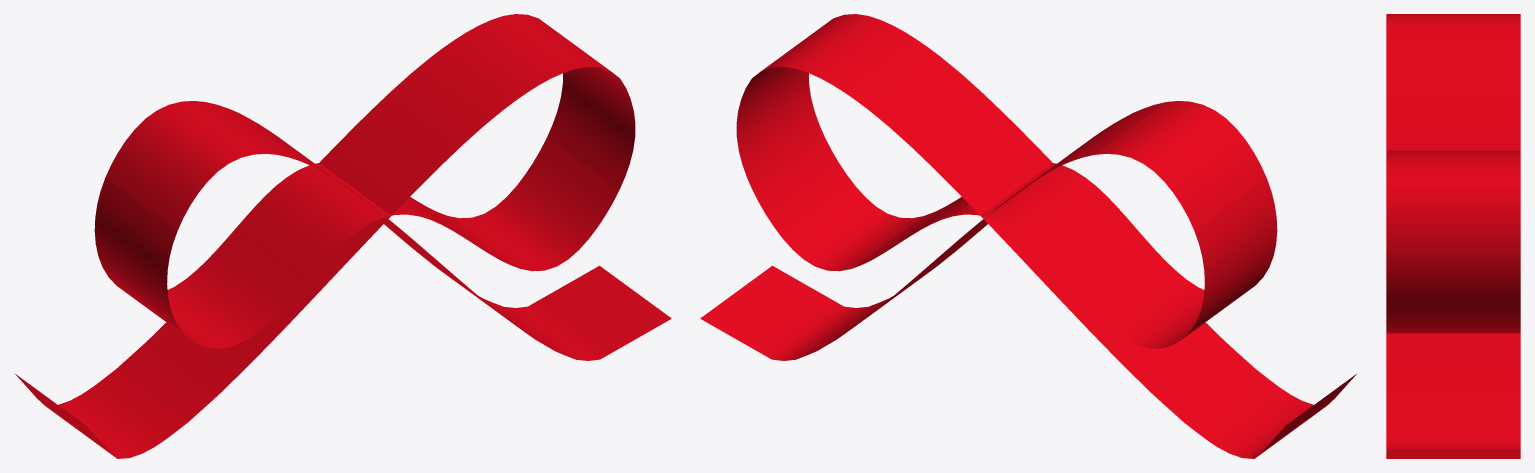
Rendered from Ribbon.fbx.
3 views of the same model, side by side, from view 1: azimuth 30°, elevation 25°; view 2: azimuth 150°, elevation 25°; view 3: azimuth 270°, elevation 25° (orthographic). The views are drawn at different scales.
Parts seen in each view (by area): view 1: Grid; view 2: Grid; view 3: Grid.
Boxes of the visible parts, x1,y1,x2,y2 form: Grid: [15, 14, 671, 458]; Grid: [700, 14, 1356, 458]; Grid: [1386, 14, 1520, 458].
Size of the model in its own units: 934 by 452 by 200.
